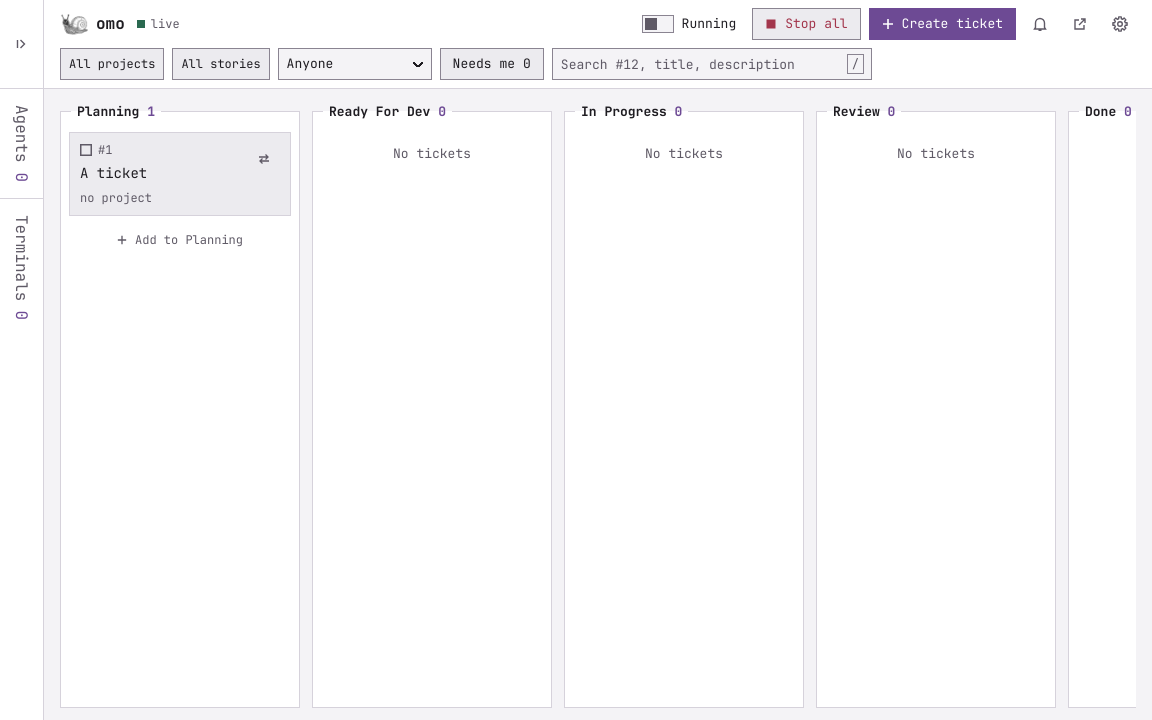
a lost answer to stop all says the agents may have been stopped
Click the button with aria-label "Stop all agents": (806, 24) x1=752 y1=8 x2=861 y2=40
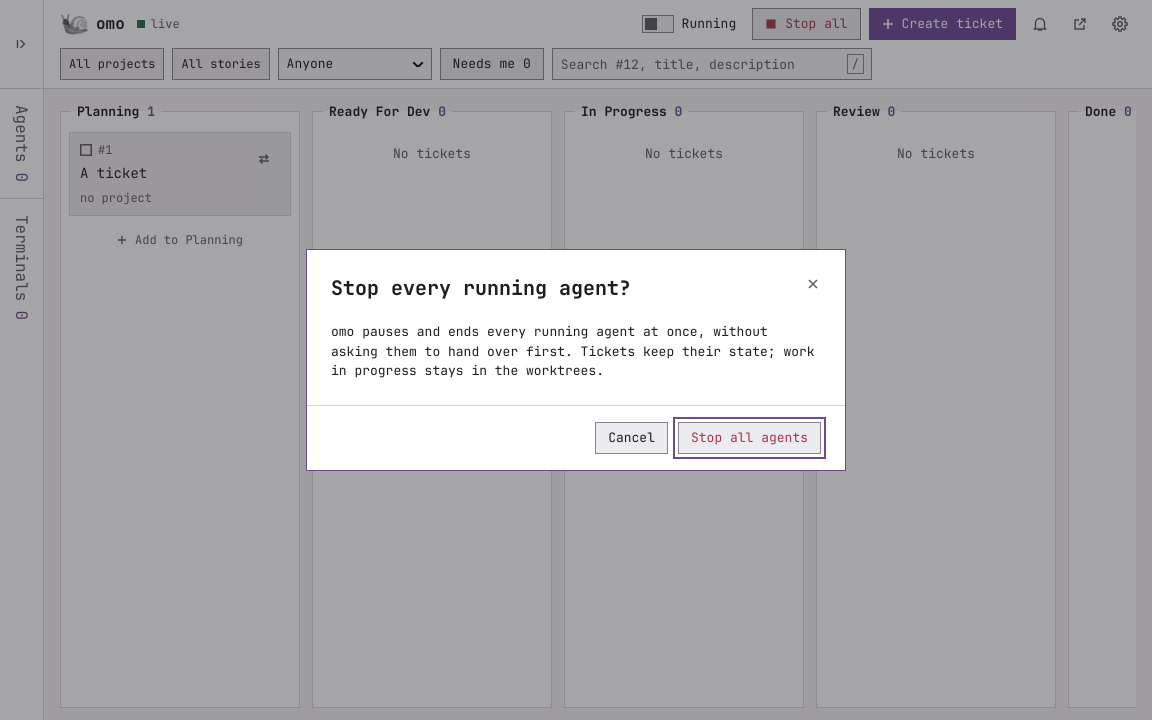
Click the button "Stop all agents": (750, 438) x1=678 y1=422 x2=821 y2=454
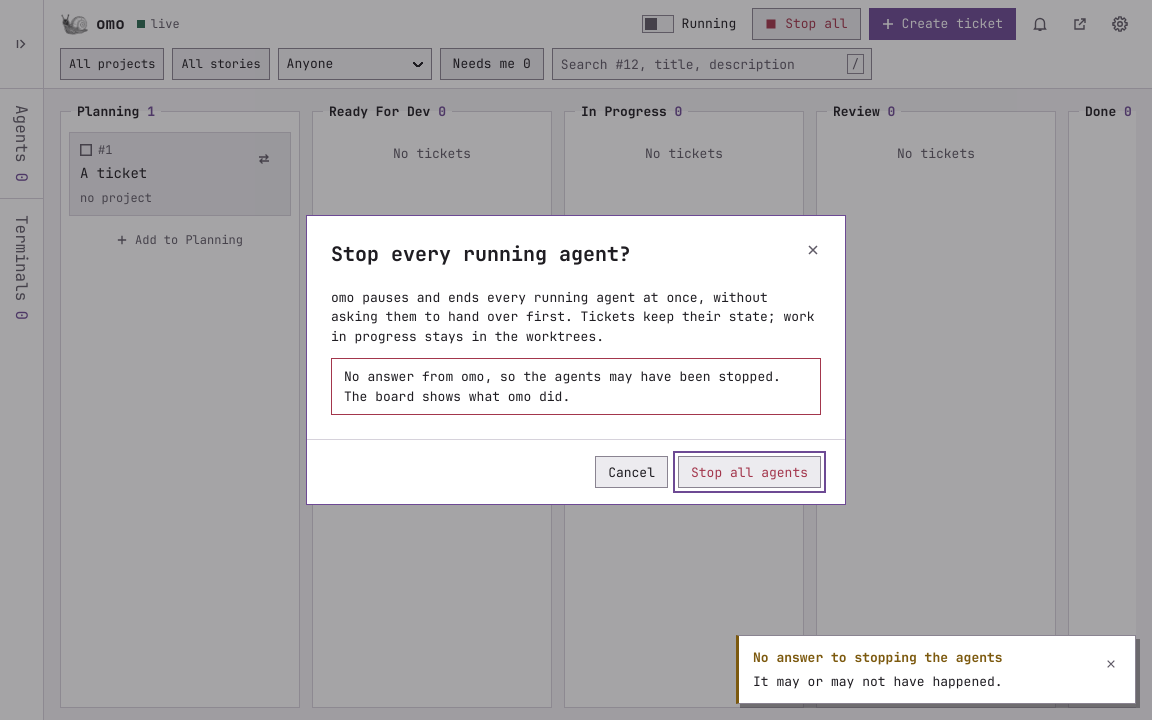
Now the message shows "may have been stopped", box x1=344 y1=368 x2=781 y2=405
